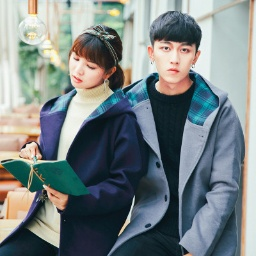face: (150, 10, 202, 82), (67, 29, 117, 88)
